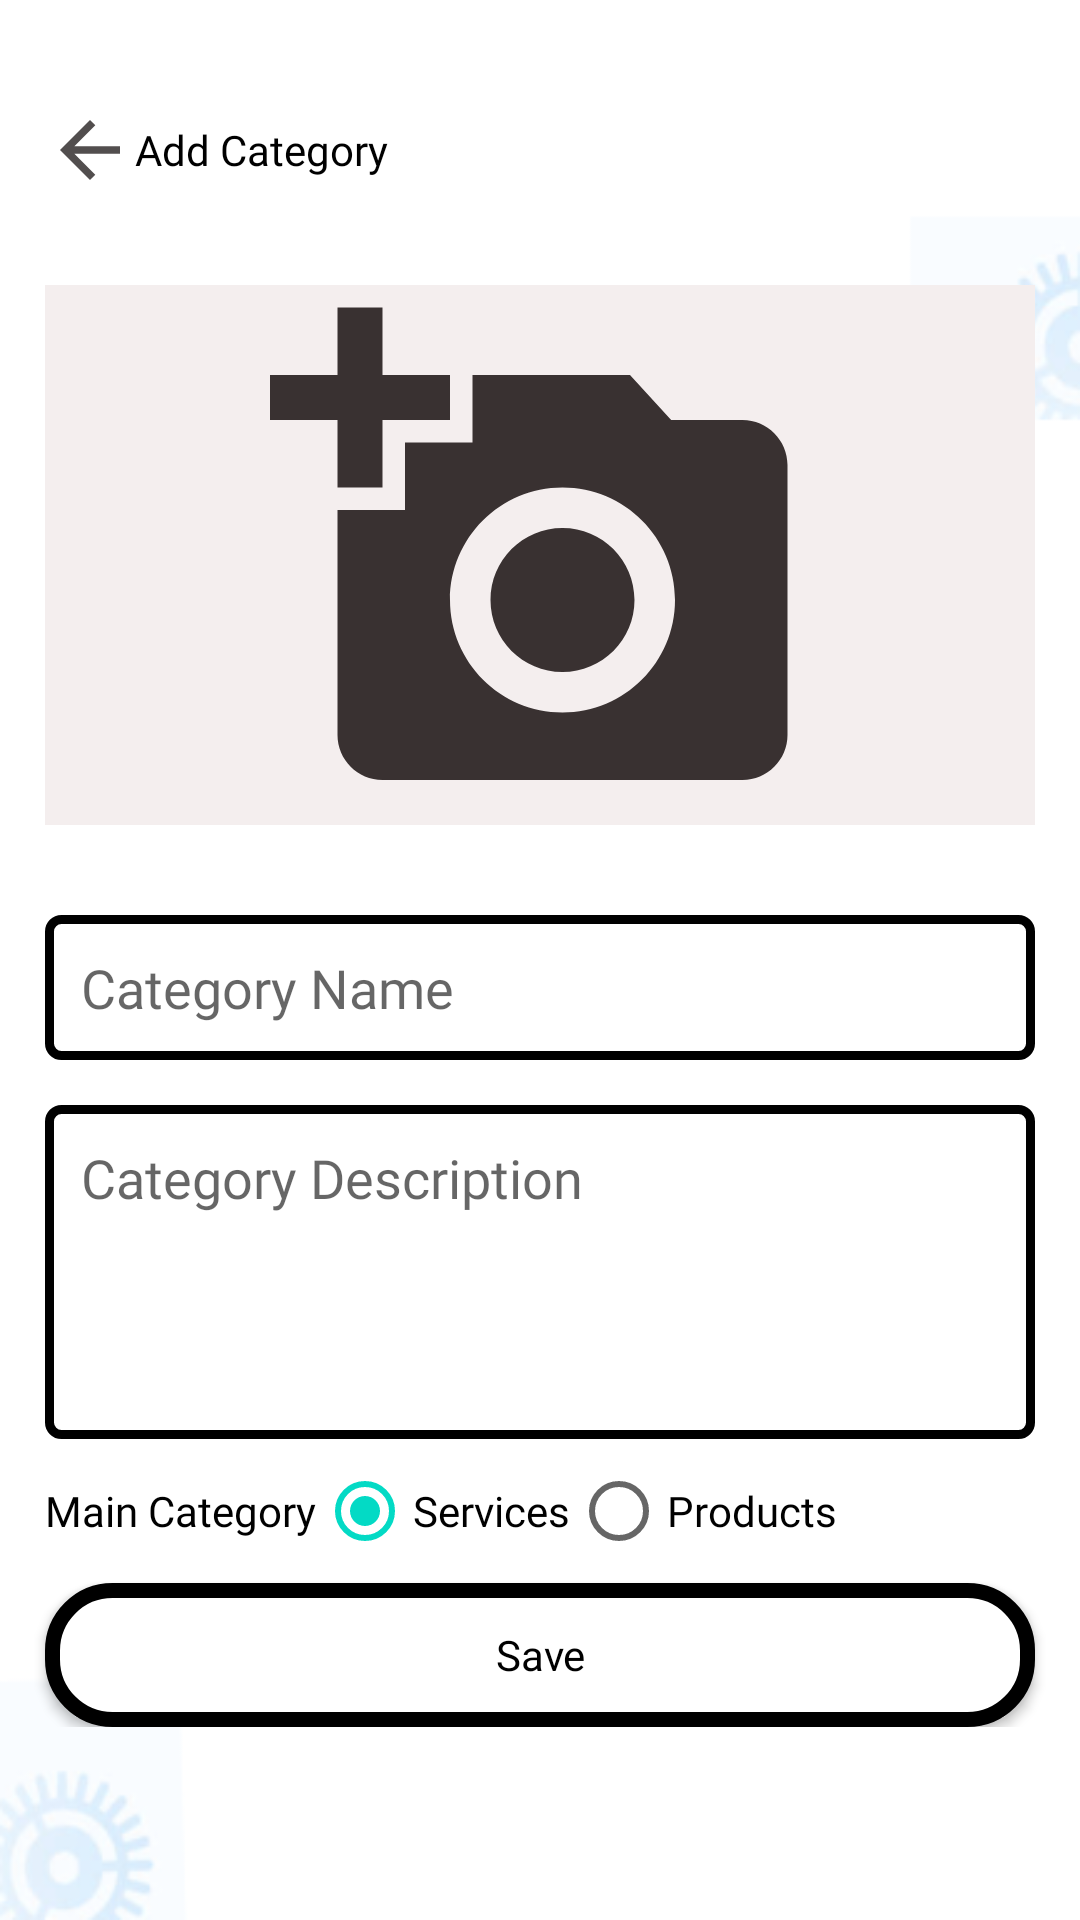

Screen size 1080×1920. Icon name, then its box in pixels as BBox(x1, y1, x2, y2):
arrow back: BBox(60, 120, 120, 180)
